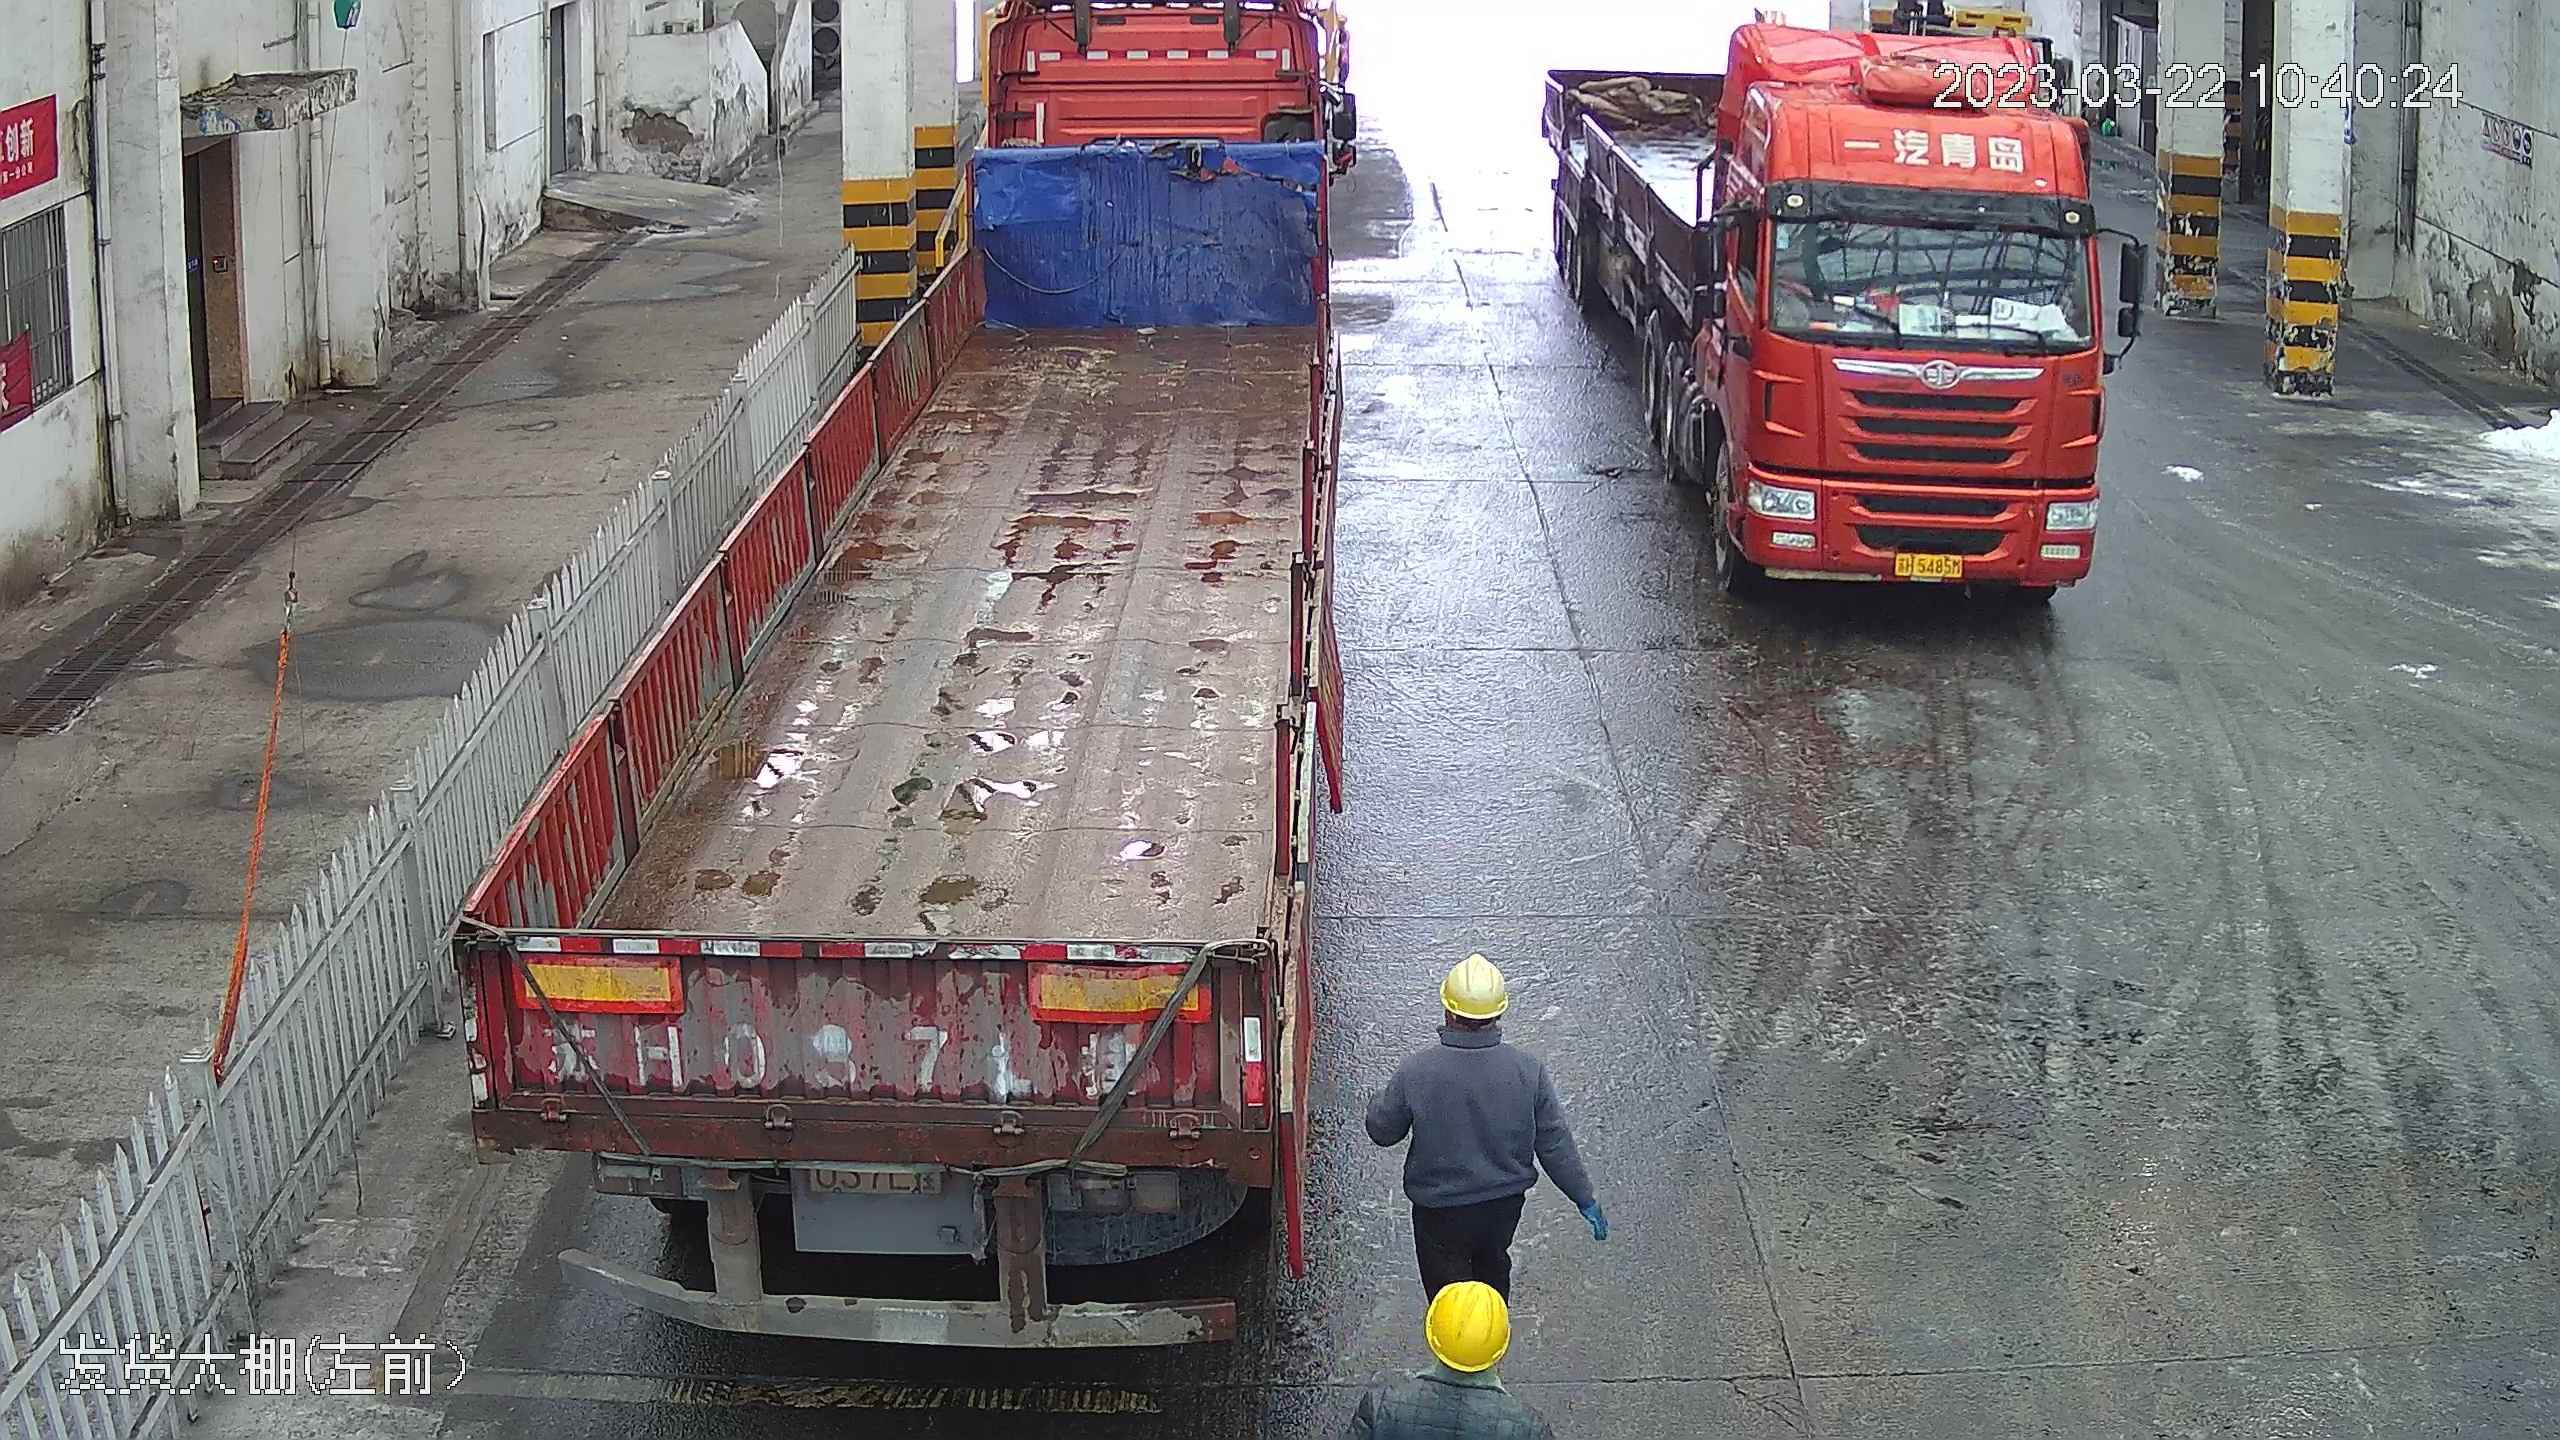head: (1389, 950, 1553, 1110)
helmet: (1425, 1276, 1513, 1368), (1437, 951, 1512, 1018)
people: (1369, 947, 1612, 1286)
truck: (420, 1, 1392, 1362), (1535, 9, 2133, 596)
